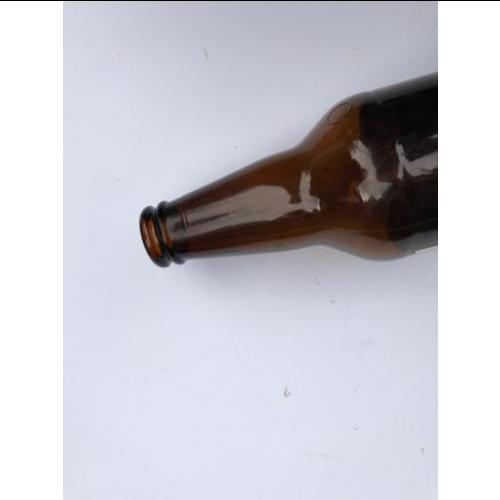glass: (138, 78, 437, 268)
